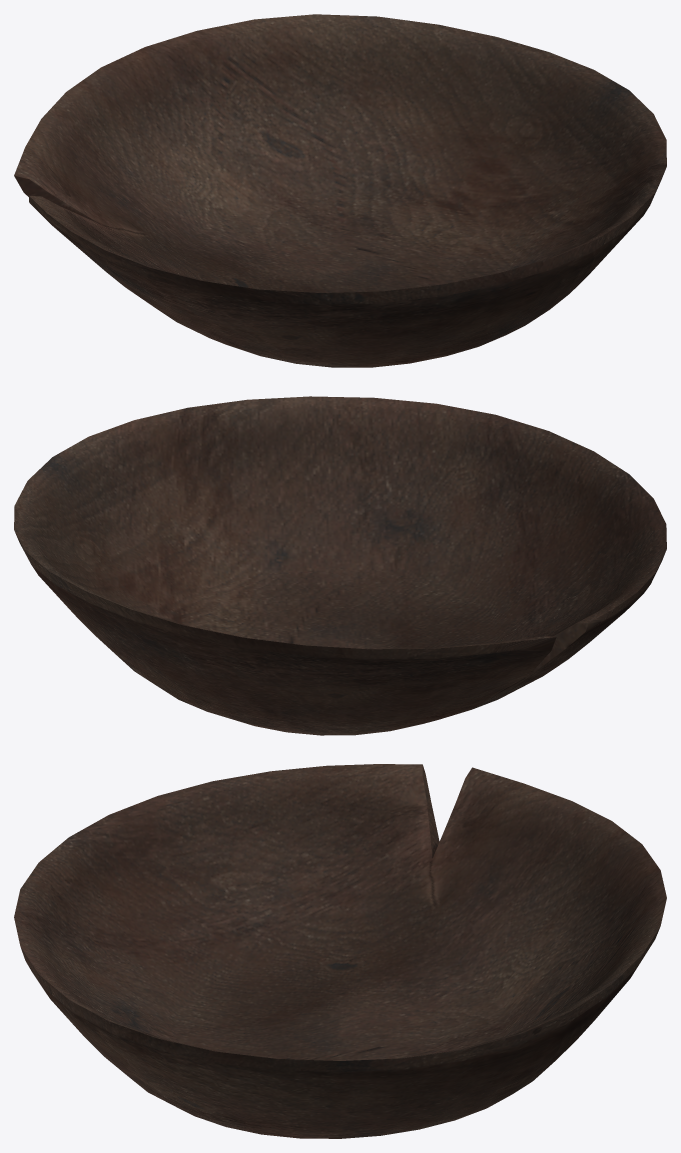
File: SM_WoodBowls_Bowl2.fbx
3 views of the same model, one above another, from view 1: azimuth 30°, elevation 25°; view 2: azimuth 150°, elevation 25°; view 3: azimuth 270°, elevation 25° (orthographic). The views are drawn at different scales.
Parts seen in each view (by area): view 1: SM_WoodBowls_Bowl2_LOD0; view 2: SM_WoodBowls_Bowl2_LOD0; view 3: SM_WoodBowls_Bowl2_LOD0.
Boxes of the visible parts, x1,y1,x2,y2 form: SM_WoodBowls_Bowl2_LOD0: (14,14,666,367); SM_WoodBowls_Bowl2_LOD0: (14,396,666,735); SM_WoodBowls_Bowl2_LOD0: (14,764,666,1138).
Size of the model in its own units: 28.12 by 26.33 by 7.47.
